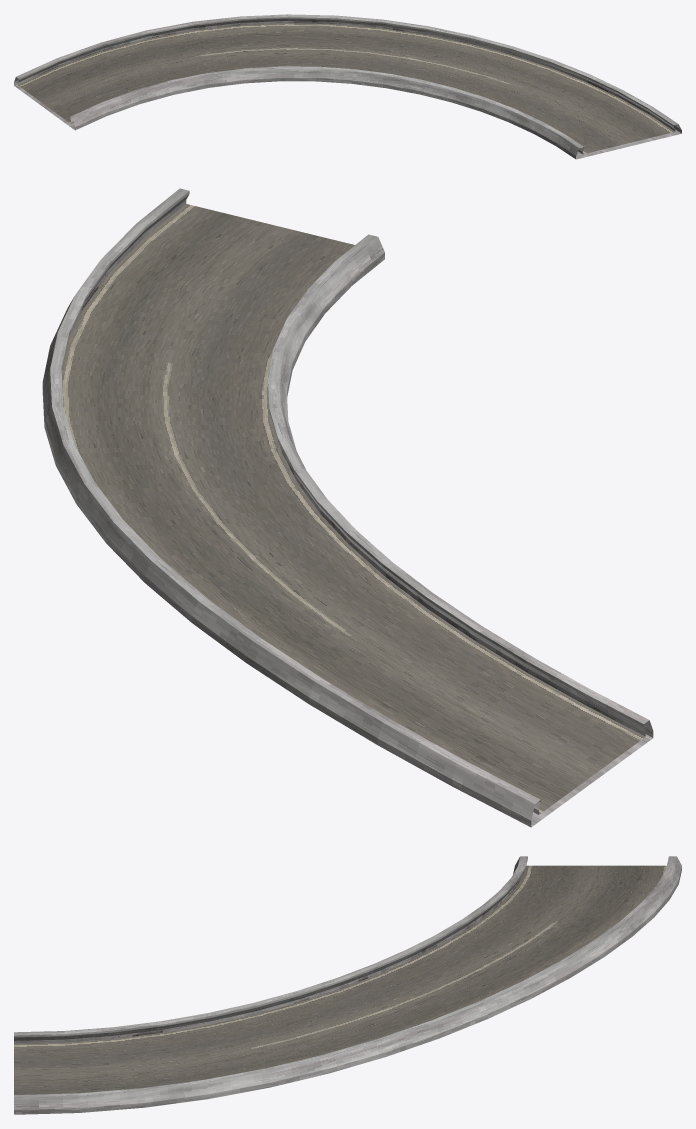
Rendered from turn-left4x4.glb.
The picture shows the model from 3 angles, top to bottom: view 1: azimuth 30°, elevation 25°; view 2: azimuth 150°, elevation 25°; view 3: azimuth 270°, elevation 25°; orthographic projection. The views are drawn at different scales.
Visible parts, largest first — view 1: road-Turn-Flat-BiSlopeDown-Down1-Left-Size4; view 2: road-Turn-Flat-BiSlopeDown-Down1-Left-Size4; view 3: road-Turn-Flat-BiSlopeDown-Down1-Left-Size4.
Boxes of the visible parts, x1,y1,x2,y2 form: road-Turn-Flat-BiSlopeDown-Down1-Left-Size4: (14,14,681,159); road-Turn-Flat-BiSlopeDown-Down1-Left-Size4: (42,188,653,827); road-Turn-Flat-BiSlopeDown-Down1-Left-Size4: (14,856,681,1114).
Size of the model in its own units: 4 by 0.4242 by 4.
2 materials, 2 textured.
